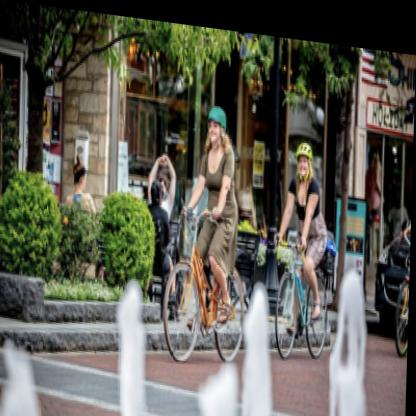With Helmet: (206, 95, 228, 146), (295, 126, 314, 174)
